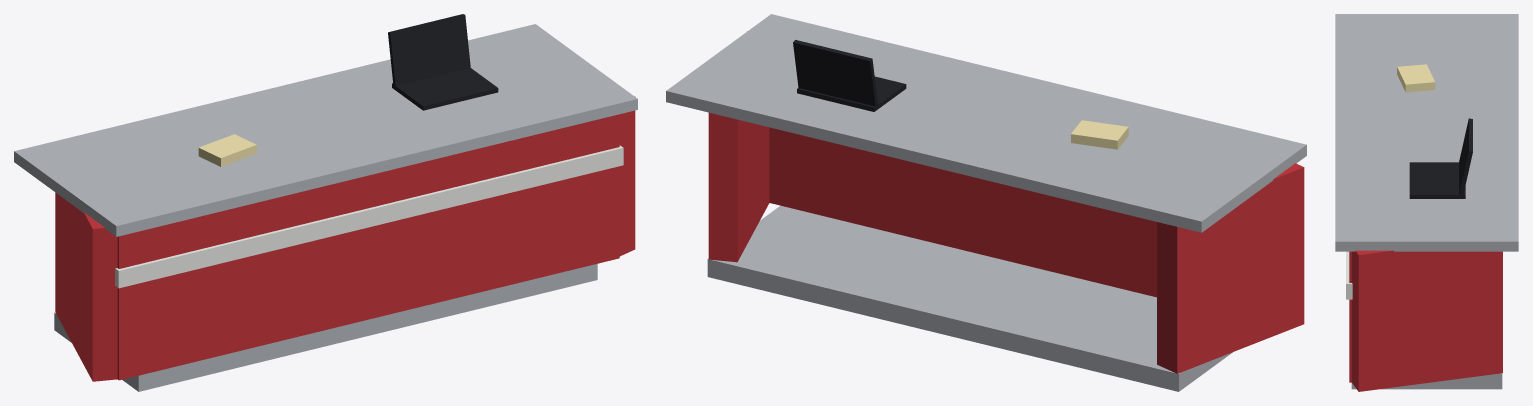
The model's file is tv_anchor_desk.glb.
3 renders of one model, left to right at view 1: azimuth 30°, elevation 25°; view 2: azimuth 150°, elevation 25°; view 3: azimuth 270°, elevation 25°, orthographic. The views are drawn at different scales.
Visible parts, largest first — view 1: body_tv_red, top_tv_metal, body_tv_white, base_tv_metal, laptop_tv_black, cards_tv_card; view 2: body_tv_red, top_tv_metal, base_tv_metal, laptop_tv_black, cards_tv_card; view 3: top_tv_metal, body_tv_red, laptop_tv_black, base_tv_metal, cards_tv_card, body_tv_white.
Part boxes in pixels (bbox=[...]): body_tv_red: bbox=[55, 96, 635, 381]; top_tv_metal: bbox=[14, 24, 637, 236]; body_tv_white: bbox=[115, 145, 623, 288]; base_tv_metal: bbox=[54, 264, 597, 391]; laptop_tv_black: bbox=[388, 14, 498, 110]; cards_tv_card: bbox=[198, 134, 256, 166]; body_tv_red: bbox=[708, 112, 1304, 373]; top_tv_metal: bbox=[666, 14, 1306, 232]; base_tv_metal: bbox=[707, 205, 1232, 391]; laptop_tv_black: bbox=[793, 40, 906, 111]; cards_tv_card: bbox=[1071, 120, 1128, 149]; top_tv_metal: bbox=[1335, 14, 1518, 251]; body_tv_red: bbox=[1349, 250, 1502, 391]; laptop_tv_black: bbox=[1409, 118, 1472, 198]; base_tv_metal: bbox=[1351, 373, 1502, 389]; cards_tv_card: bbox=[1397, 64, 1435, 92]; body_tv_white: bbox=[1346, 251, 1352, 299].
Size of the model in its own units: 2.6 by 1.07 by 0.85.
